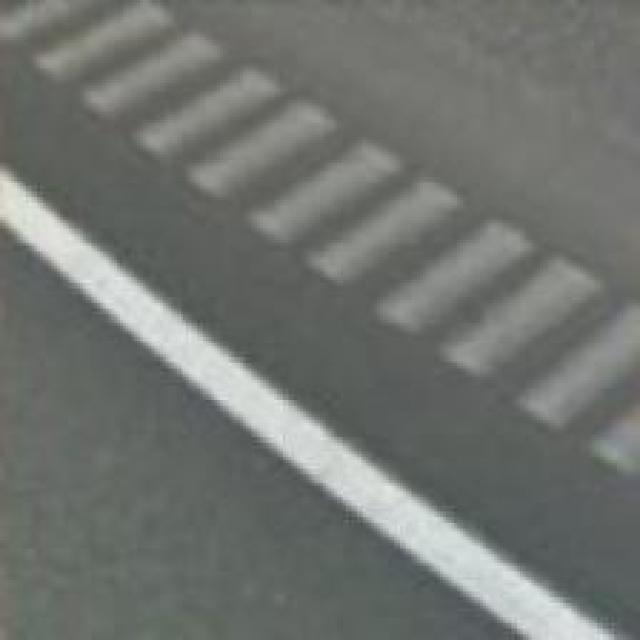walk-crossing: (4, 0, 640, 464)
